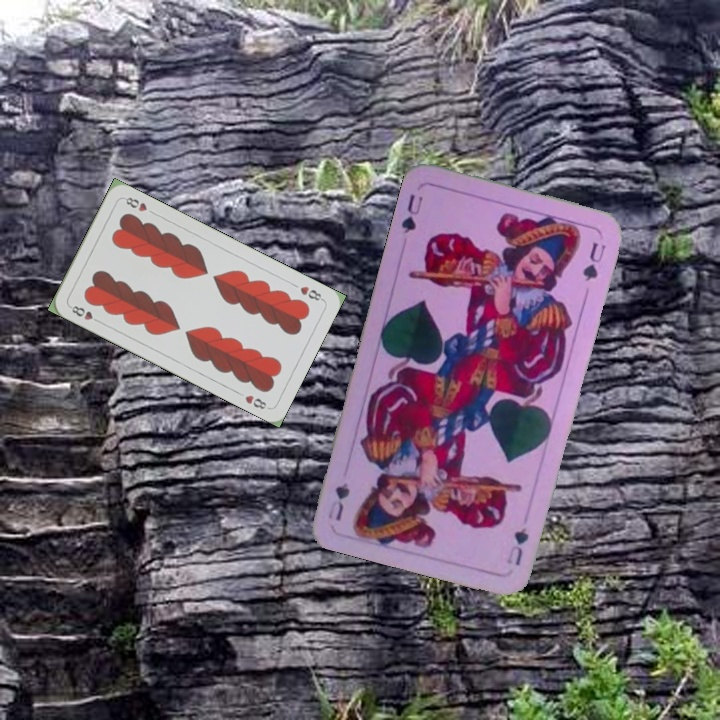GU: (502, 523, 532, 569), (397, 190, 426, 236)
H8: (65, 302, 103, 325), (296, 282, 326, 304)
